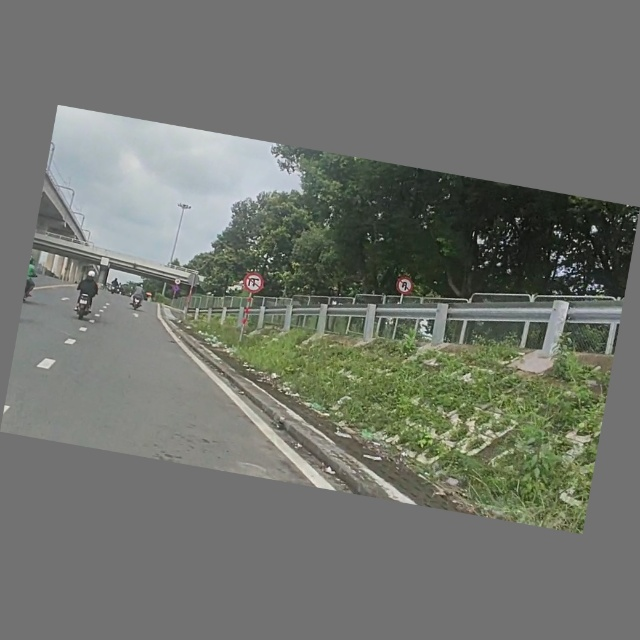P.124a*: (394, 276, 415, 296)
P.124d: (241, 272, 266, 295)
P.127*40: (174, 279, 181, 286)
P.130: (172, 286, 180, 293)
